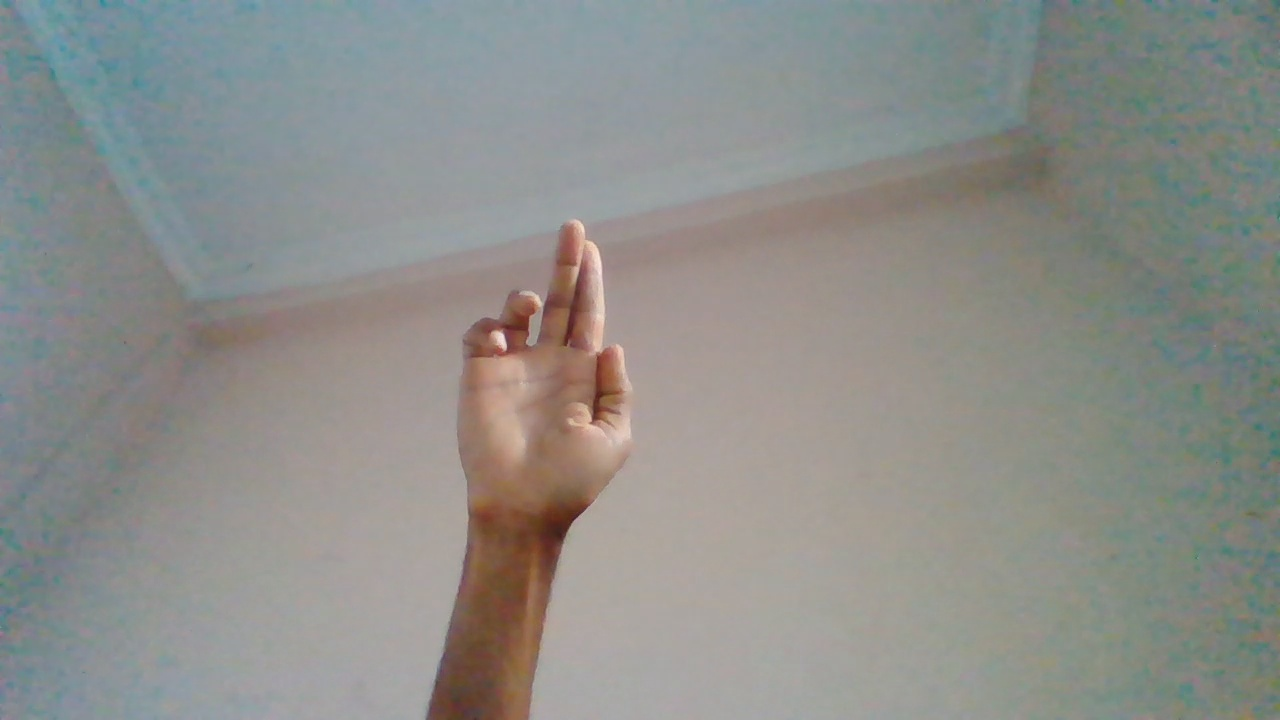gne: (448, 220, 647, 579)
